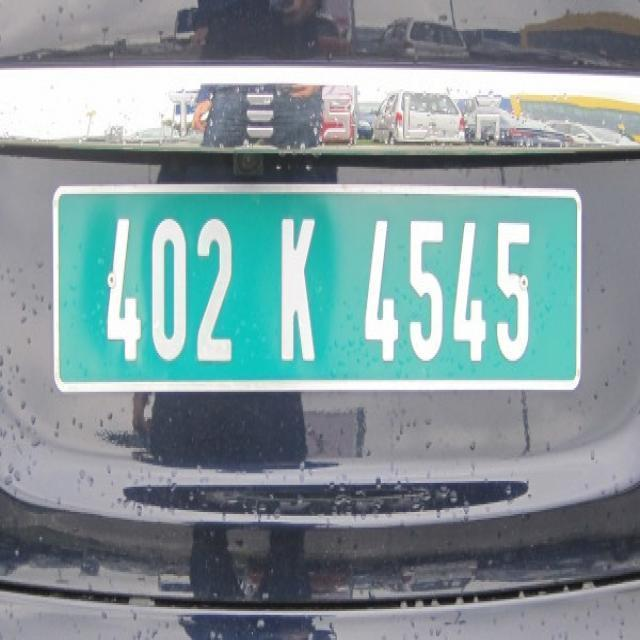LicensePlate: (41, 153, 585, 434)
